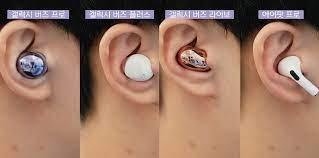earphone: (278, 49, 319, 98), (172, 42, 212, 74), (120, 51, 154, 83), (14, 49, 48, 80)
